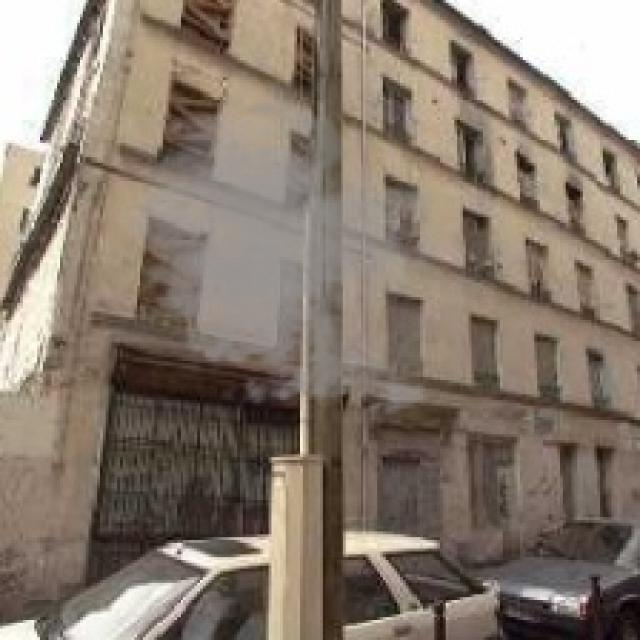Smoke: (106, 77, 488, 426)
